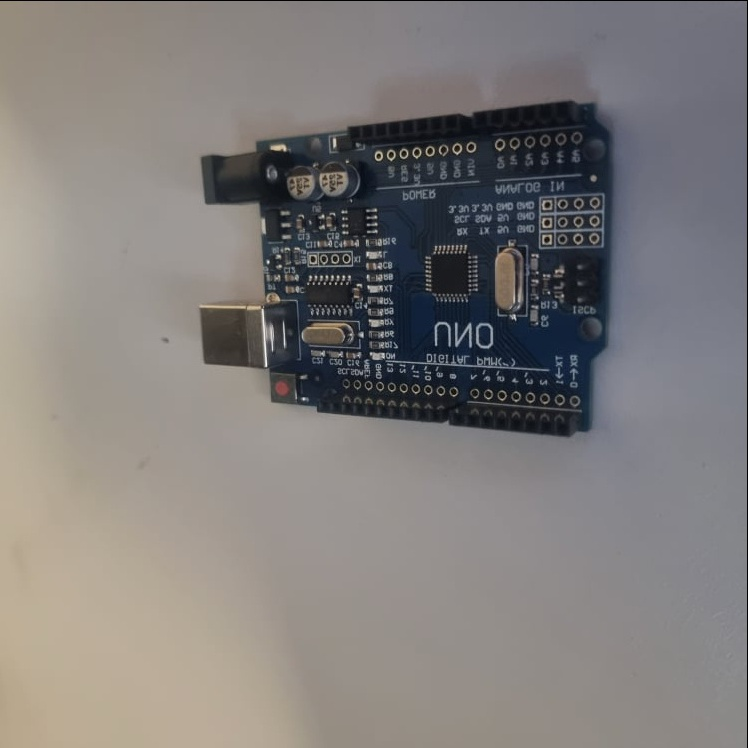UNO R3: (196, 97, 622, 439)
